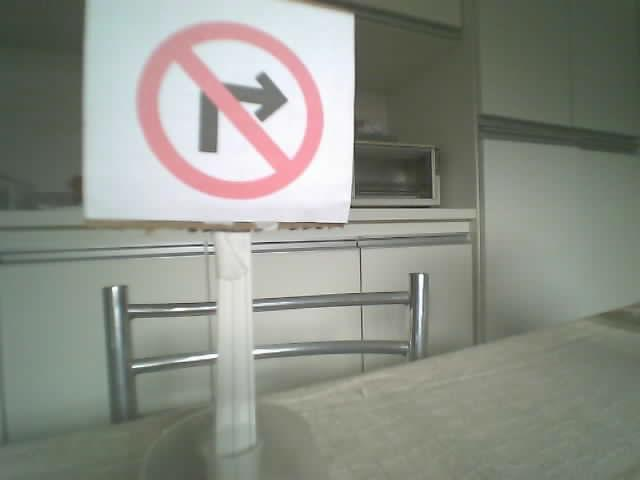R-4b_proibido-direita: (136, 20, 323, 200)
